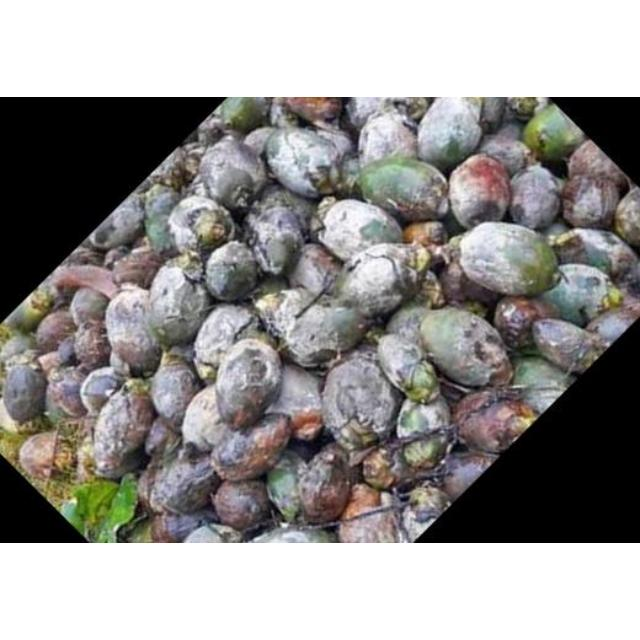damaged: (320, 350, 402, 450), (417, 307, 513, 389), (458, 221, 560, 297), (333, 244, 421, 320), (212, 337, 284, 429), (210, 409, 296, 483), (277, 296, 365, 368), (92, 381, 156, 479), (264, 125, 344, 198), (452, 390, 536, 456), (318, 199, 404, 263), (363, 431, 452, 492), (148, 264, 212, 348), (196, 138, 268, 212), (150, 446, 222, 518), (104, 287, 162, 375), (448, 153, 514, 229), (192, 304, 260, 376), (416, 97, 484, 169), (539, 264, 617, 326), (296, 444, 354, 526), (246, 204, 310, 278), (376, 331, 440, 404), (552, 228, 636, 282), (268, 364, 326, 440), (166, 196, 234, 258), (148, 351, 202, 425), (530, 318, 598, 374), (260, 286, 320, 348), (522, 103, 584, 163), (564, 138, 630, 194), (356, 111, 420, 167), (338, 487, 402, 543), (508, 164, 562, 230), (490, 296, 556, 350), (560, 172, 620, 230), (510, 359, 574, 413), (90, 193, 148, 251), (204, 241, 260, 301), (180, 386, 230, 452), (212, 478, 272, 532), (394, 392, 452, 446), (265, 450, 307, 522), (434, 452, 492, 504), (2, 362, 48, 424), (288, 245, 342, 297), (49, 264, 122, 302), (399, 485, 448, 541), (438, 254, 490, 306), (44, 363, 92, 419), (582, 306, 638, 354), (142, 188, 182, 255), (18, 431, 68, 484), (372, 240, 436, 280), (252, 186, 312, 228), (110, 246, 166, 288), (80, 366, 124, 418), (477, 133, 531, 175), (73, 318, 114, 370), (4, 292, 52, 336), (345, 98, 407, 130), (36, 310, 78, 356), (216, 98, 268, 132), (68, 286, 112, 326), (0, 333, 38, 371), (472, 98, 510, 132), (169, 248, 205, 282), (333, 449, 363, 488), (243, 126, 279, 158), (269, 98, 305, 130), (43, 476, 79, 508), (64, 244, 108, 270), (309, 116, 351, 142), (196, 112, 230, 144), (76, 442, 100, 486), (176, 140, 208, 173), (506, 98, 546, 122), (120, 516, 156, 542), (488, 121, 524, 145), (0, 431, 26, 464), (143, 182, 173, 210), (442, 206, 468, 237), (29, 284, 55, 314), (60, 500, 84, 532), (36, 350, 64, 376), (184, 178, 214, 202), (182, 124, 206, 148), (1, 322, 16, 350), (448, 234, 467, 252)
